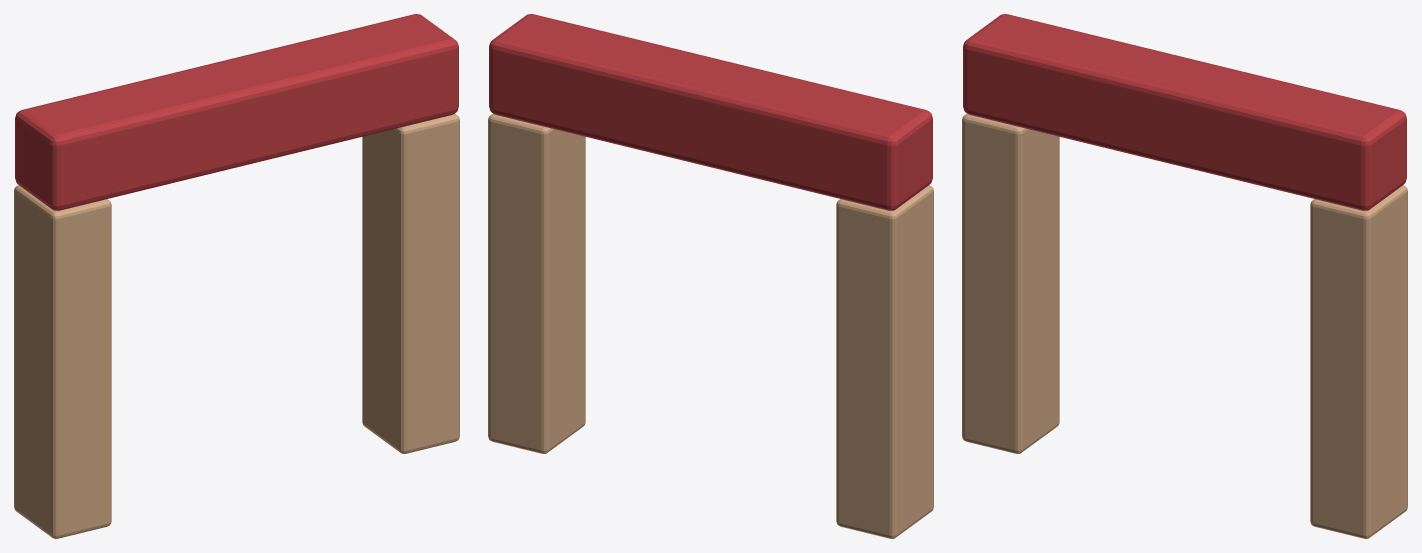
File: arch.glb
3 views of the same model, side by side, from view 1: azimuth 30°, elevation 25°; view 2: azimuth 150°, elevation 25°; view 3: azimuth 330°, elevation 25° (orthographic).
Visible parts, largest first — view 1: arch_top, arch, arch_right; view 2: arch_top, arch, arch_right; view 3: arch_top, arch_right, arch.
Boxes of the visible parts, bbox=[...] form: arch_top: bbox=[15, 14, 458, 210]; arch: bbox=[14, 185, 111, 538]; arch_right: bbox=[362, 113, 459, 453]; arch_top: bbox=[489, 14, 932, 210]; arch: bbox=[836, 185, 933, 538]; arch_right: bbox=[488, 113, 585, 453]; arch_top: bbox=[963, 14, 1406, 210]; arch_right: bbox=[1310, 185, 1407, 538]; arch: bbox=[962, 113, 1059, 453].
Size of the model in its own units: 3.4 by 3.2 by 0.6.
